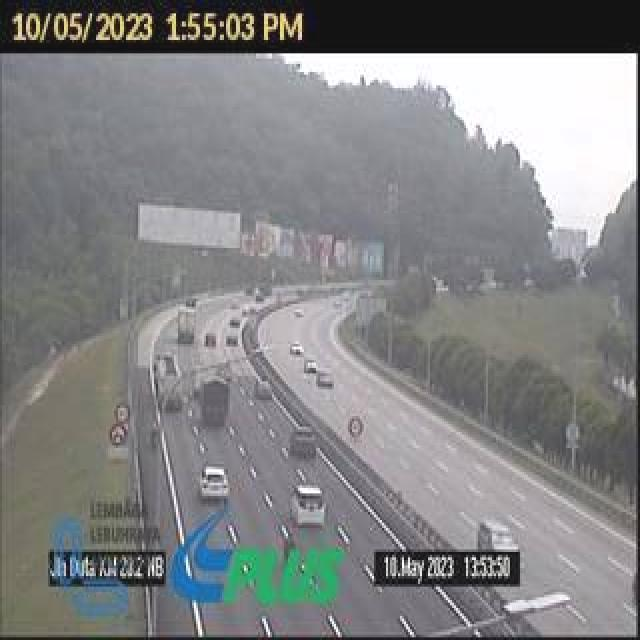Car: (289, 483, 325, 529), (476, 521, 516, 553), (199, 465, 230, 503), (289, 424, 317, 460), (254, 378, 275, 400), (303, 356, 317, 376), (225, 332, 240, 350), (289, 340, 304, 357), (203, 332, 217, 348), (228, 316, 242, 329)
Truck: (201, 375, 230, 426), (177, 307, 197, 348)
